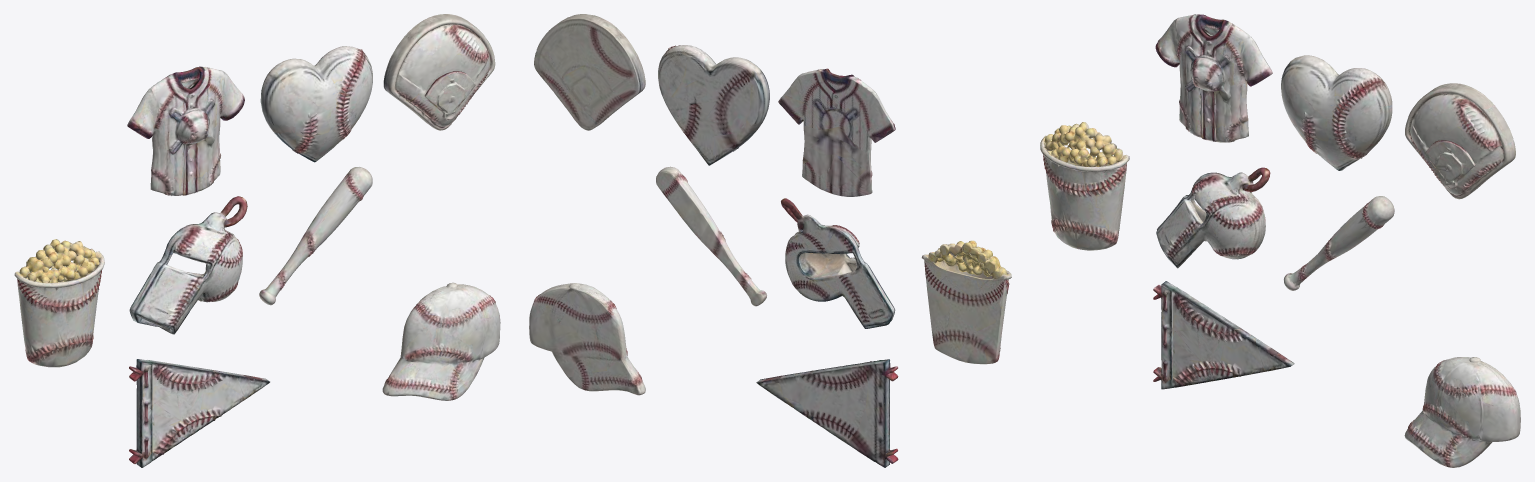
The picture shows the model from 3 angles, left to right: view 1: azimuth 30°, elevation 25°; view 2: azimuth 150°, elevation 25°; view 3: azimuth 330°, elevation 25°; orthographic projection.
Parts seen in each view (by area): view 1: Mesh 5, Mesh 12, Mesh 9, Mesh 4, Mesh 13, Mesh 6, Mesh 7, Mesh 10; view 2: Mesh 5, Mesh 9, Mesh 13, Mesh 4, Mesh 12, Mesh 6, Mesh 7, Mesh 10; view 3: Mesh 5, Mesh 9, Mesh 12, Mesh 4, Mesh 13, Mesh 6, Mesh 7, Mesh 10.
Part boxes in pixels (left/top/right/bottom): Mesh 5: left=127, top=66, right=244, bottom=195; Mesh 12: left=382, top=282, right=500, bottom=400; Mesh 9: left=260, top=46, right=372, bottom=162; Mesh 4: left=14, top=239, right=104, bottom=367; Mesh 13: left=383, top=14, right=495, bottom=130; Mesh 6: left=129, top=359, right=269, bottom=467; Mesh 7: left=129, top=196, right=247, bottom=334; Mesh 10: left=259, top=167, right=372, bottom=305; Mesh 5: left=778, top=68, right=895, bottom=196; Mesh 9: left=658, top=45, right=769, bottom=165; Mesh 13: left=534, top=14, right=645, bottom=130; Mesh 4: left=921, top=240, right=1011, bottom=364; Mesh 12: left=529, top=283, right=645, bottom=395; Mesh 6: left=756, top=359, right=898, bottom=467; Mesh 7: left=781, top=198, right=895, bottom=328; Mesh 10: left=656, top=166, right=766, bottom=306; Mesh 5: left=1155, top=14, right=1272, bottom=142; Mesh 9: left=1281, top=55, right=1392, bottom=170; Mesh 12: left=1404, top=357, right=1520, bottom=467; Mesh 4: left=1040, top=122, right=1129, bottom=250; Mesh 13: left=1405, top=83, right=1515, bottom=199; Mesh 6: left=1153, top=281, right=1294, bottom=389; Mesh 7: left=1156, top=167, right=1270, bottom=268; Mesh 10: left=1283, top=196, right=1394, bottom=290.
Bounding box in the file's own units: 1.8 × 1.37 × 0.1188.
Materials: 8 (8 with a texture image).
